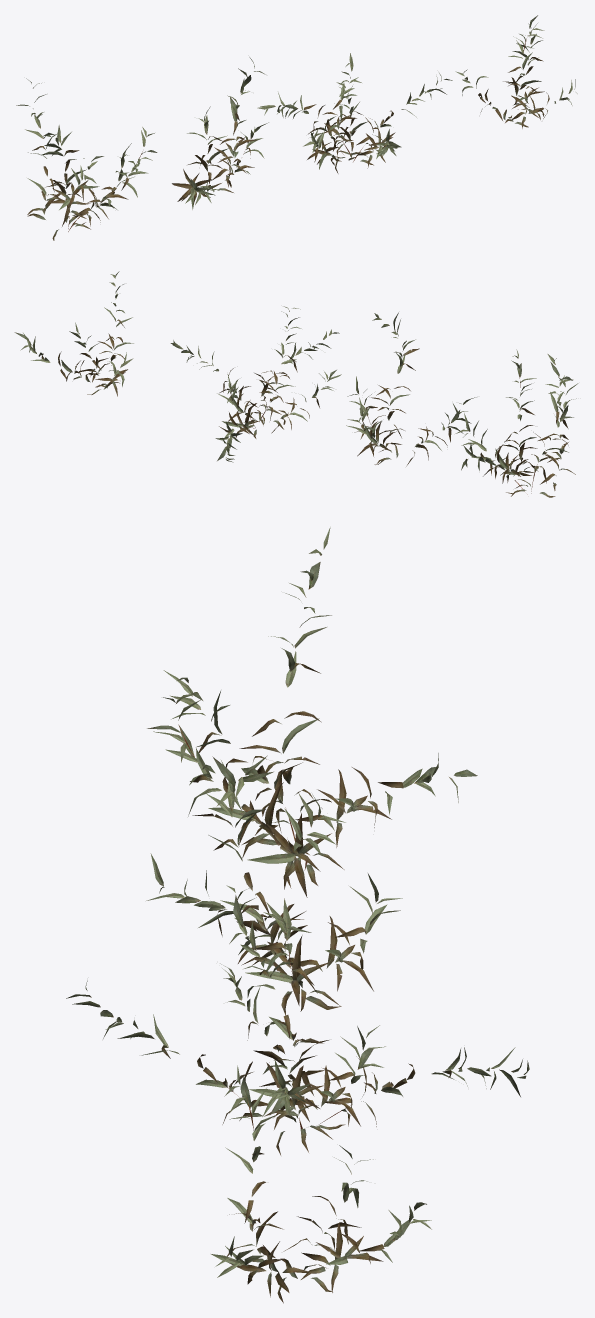
Rendered from shrub_02.glb.
The picture shows the model from 3 angles, top to bottom: view 1: azimuth 30°, elevation 25°; view 2: azimuth 150°, elevation 25°; view 3: azimuth 270°, elevation 25°; orthographic projection. The views are drawn at different scales.
Visible parts, largest first — view 1: shrub_02_a; view 2: shrub_02_a; view 3: shrub_02_a.
Boxes of the visible parts, x1,y1,x2,y2 form: shrub_02_a: [16, 15, 577, 240]; shrub_02_a: [14, 271, 578, 497]; shrub_02_a: [66, 527, 529, 1303].
Bounding box in the file's own units: 6.05 × 1.7 × 2.28.
Materials: 1 (1 with a texture image).
